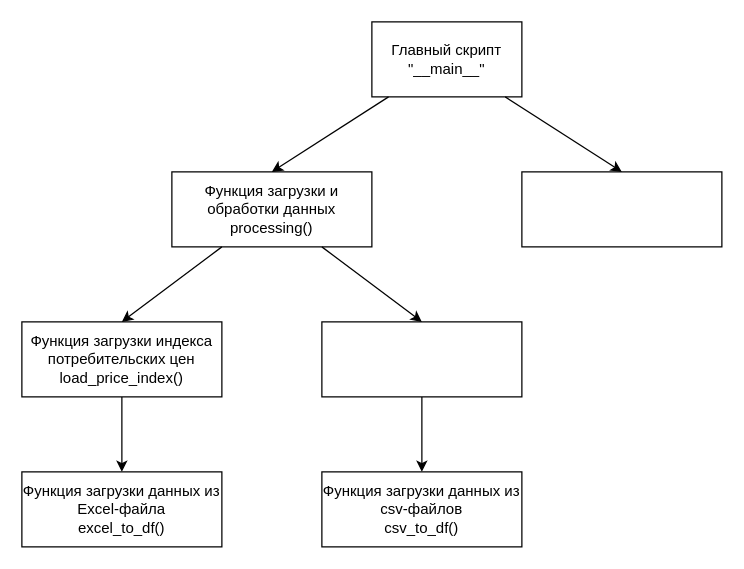
Image size: 744x569. Some labels were removed from this diagram. Each missing label, with the centre of its shape:
"Функция визуализации результата plot_graphs()" goes at [621,209].
"Функция загрузки данных о медианных зарплатах load_median_wages()" goes at [421,359].
